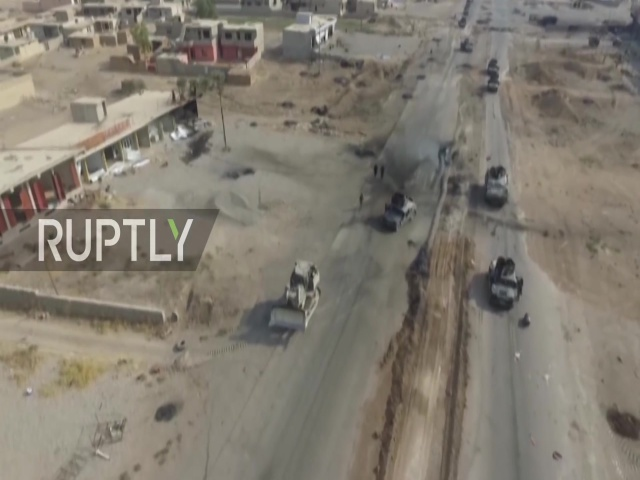vehicle: (265, 260, 323, 335), (486, 252, 518, 311), (380, 192, 418, 232), (483, 165, 511, 205), (485, 74, 502, 95)
